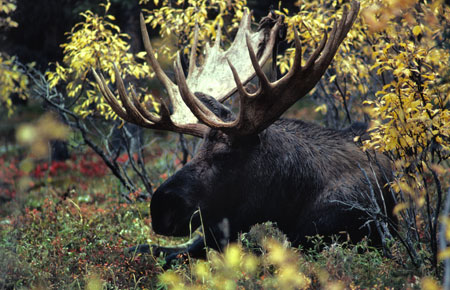moose: (81, 3, 365, 245)
